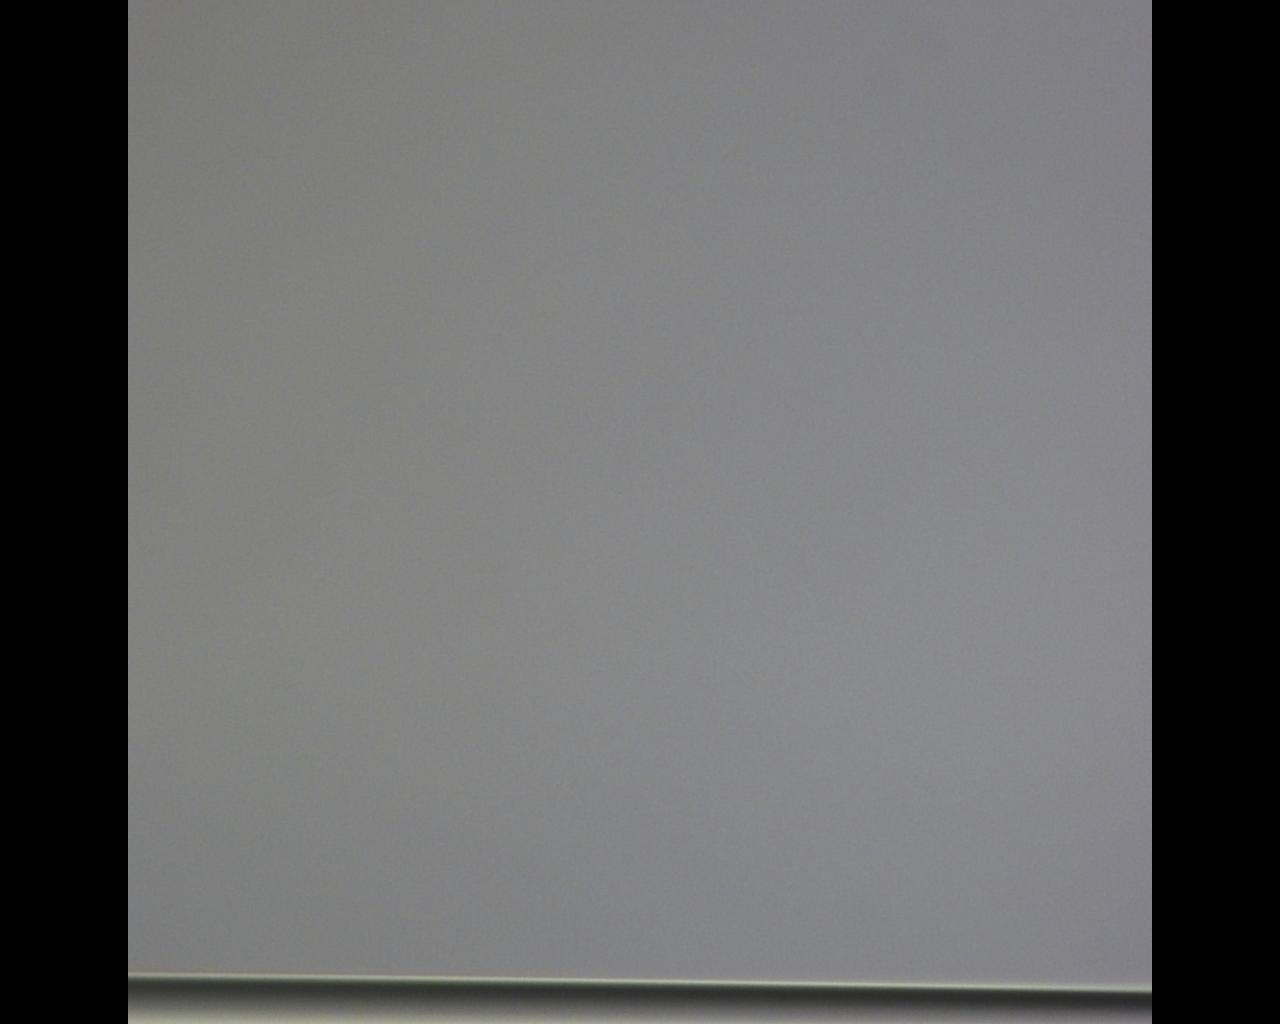fiber: (306, 0, 1069, 1024)
